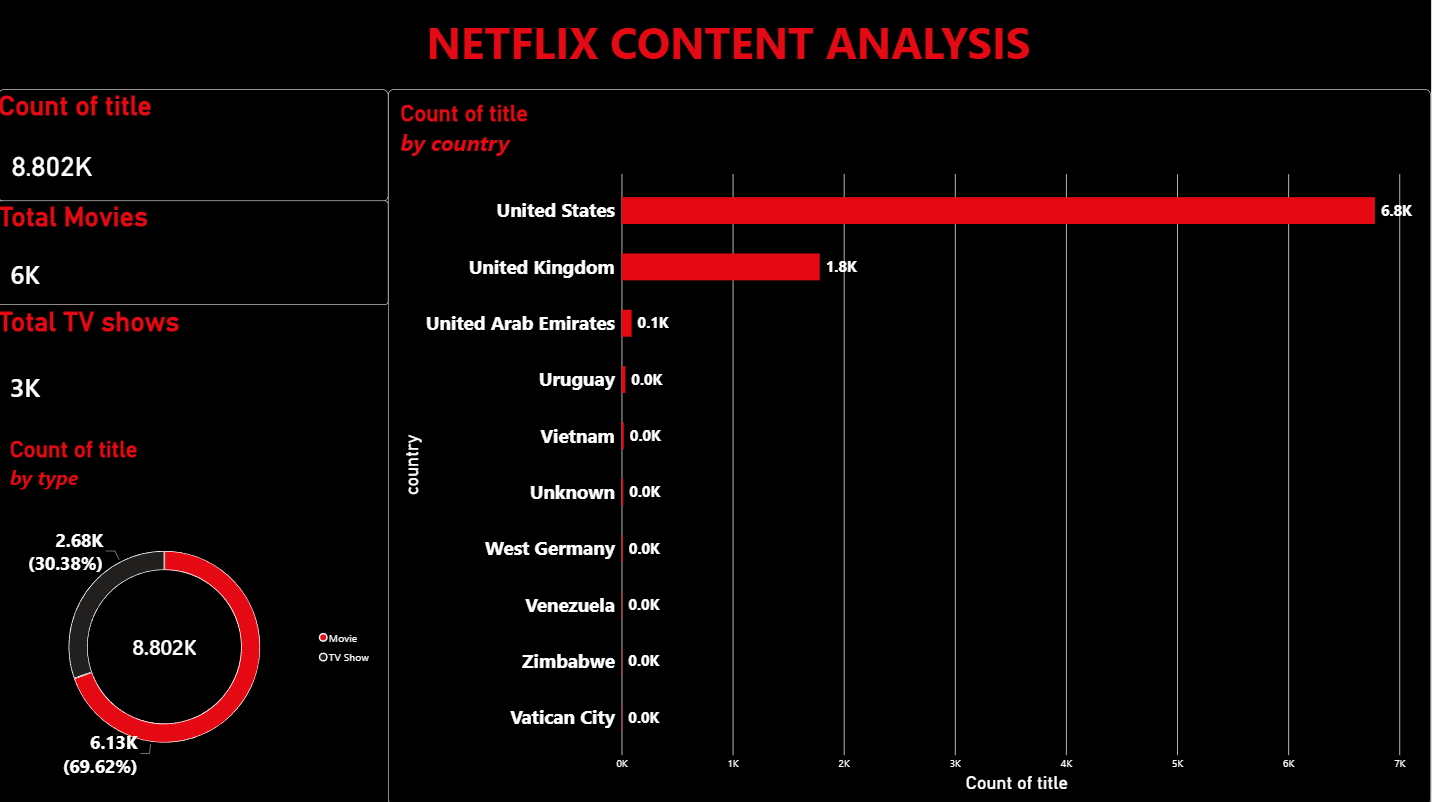

This screenshot's page, from the dashboard's own definition file:
{"tool":"powerbi","page":{"name":"Overview","canvas":[1920,1080],"ordinal":0},"visuals":[{"type":"cardVisual","title":"Count of title","fields":{"Data":["Count(netflix_titles.title)"]},"box":[0,121.4,522.8,150.3],"z":0},{"type":"cardVisual","title":"Total Movies","fields":{"Data":["netflix_titles.no.of.movies"]},"box":[0,271.7,522.8,140],"z":1000},{"type":"cardVisual","fields":{"Data":["netflix_titles.no.of.tvshows"]},"box":[0,411.7,522.8,160.5],"z":2000},{"type":"donutChart","fields":{"Category":["netflix_titles.type"],"Y":["Count(netflix_titles.title)"]},"box":[0,572,522.8,506.3],"z":3000},{"type":"clusteredBarChart","fields":{"Category":["netflix_titles.country"],"Y":["CountNonNull(netflix_titles.title)"]},"box":[522.8,121.4,1397.6,959.2],"z":4000},{"type":"textbox","box":[0,0,1919.5,122.3],"z":6000}]}

Visuals, with their boxes in screenshot pixels (x1, y1, x2, y2), scaled from the page's 1920x1080 canvas onto the 1432x802 screenshot:
"Count of title" cardVisual: <region>0, 90, 390, 202</region>
"Total Movies" cardVisual: <region>0, 202, 390, 306</region>
cardVisual - netflix_titles.no.of.tvshows: <region>0, 306, 390, 425</region>
donutChart - netflix_titles.type x Count(netflix_titles.title): <region>0, 425, 390, 801</region>
clusteredBarChart - netflix_titles.country x CountNonNull(netflix_titles.title): <region>390, 90, 1431, 801</region>
textbox: <region>0, 0, 1431, 91</region>
